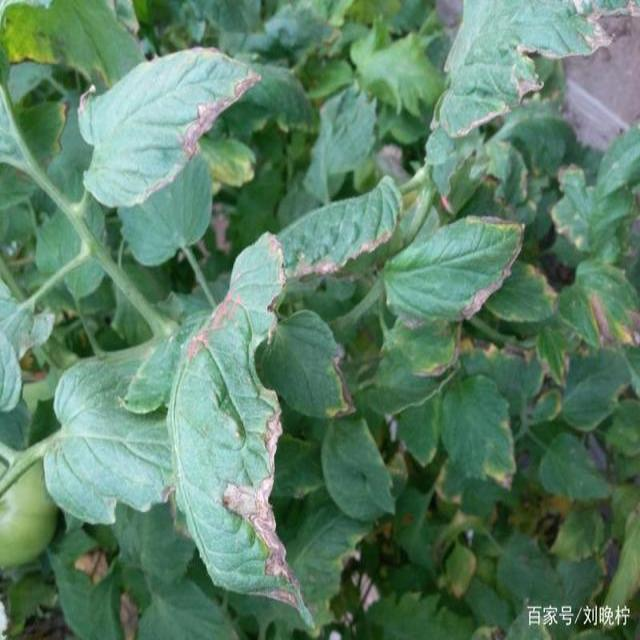Early_blight: (215, 405, 307, 607), (179, 73, 263, 161), (572, 1, 639, 54), (459, 332, 538, 364), (325, 346, 359, 418), (588, 285, 614, 350), (73, 544, 110, 589), (460, 281, 503, 319), (528, 264, 561, 313), (263, 232, 286, 293), (513, 38, 566, 63), (296, 251, 343, 279), (118, 592, 140, 640), (519, 71, 545, 109), (472, 214, 526, 232), (619, 307, 640, 349), (356, 228, 391, 253), (415, 361, 449, 377), (495, 470, 513, 490)
